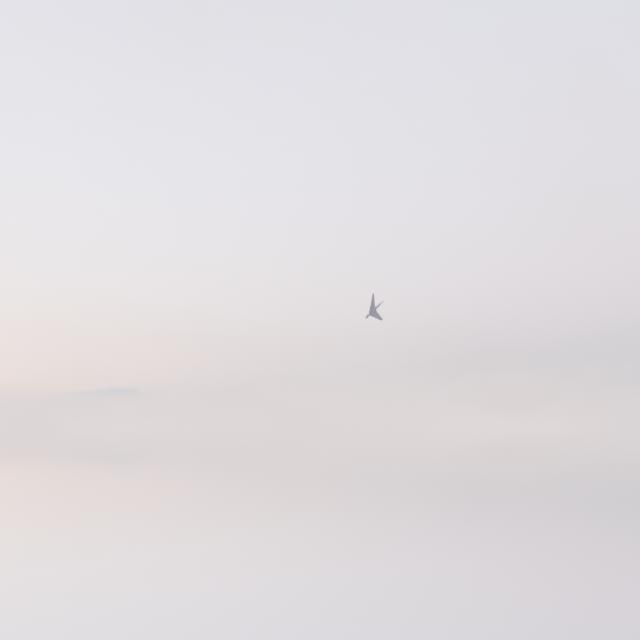Airaplan: (365, 292, 384, 321)
